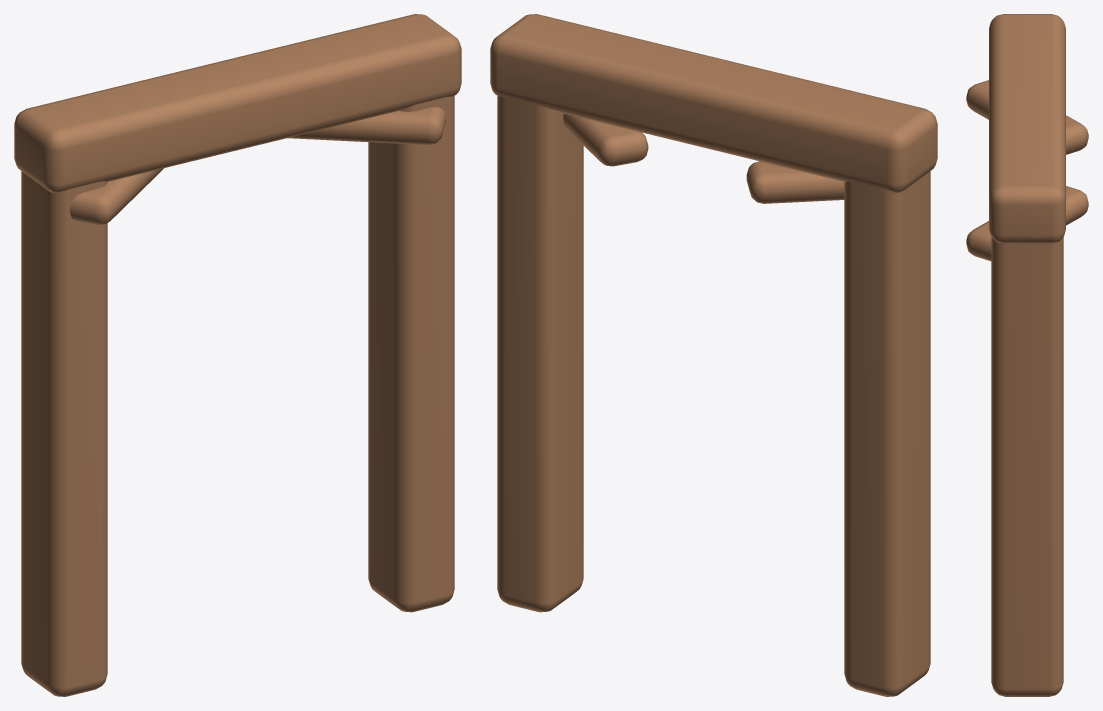
File: arch.glb
3 views of the same model, side by side, from view 1: azimuth 30°, elevation 25°; view 2: azimuth 150°, elevation 25°; view 3: azimuth 270°, elevation 25° (orthographic). The views are drawn at different scales.
Visible parts, largest first — view 1: Body_wood; view 2: Body_wood; view 3: Body_wood.
Part boxes in pixels (bbox=[...]): Body_wood: bbox=[14, 14, 461, 696]; Body_wood: bbox=[490, 14, 937, 696]; Body_wood: bbox=[966, 14, 1088, 696].
Size of the model in its own units: 1.8 by 2.35 by 0.5077.
